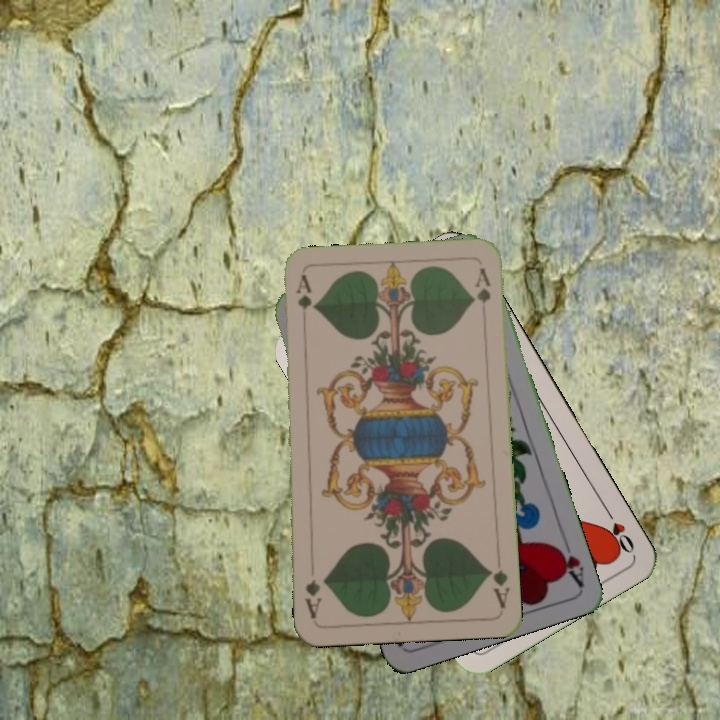GA: (484, 563, 512, 611), (292, 271, 311, 313)
HA: (550, 531, 587, 589)
HO: (600, 503, 637, 557)
